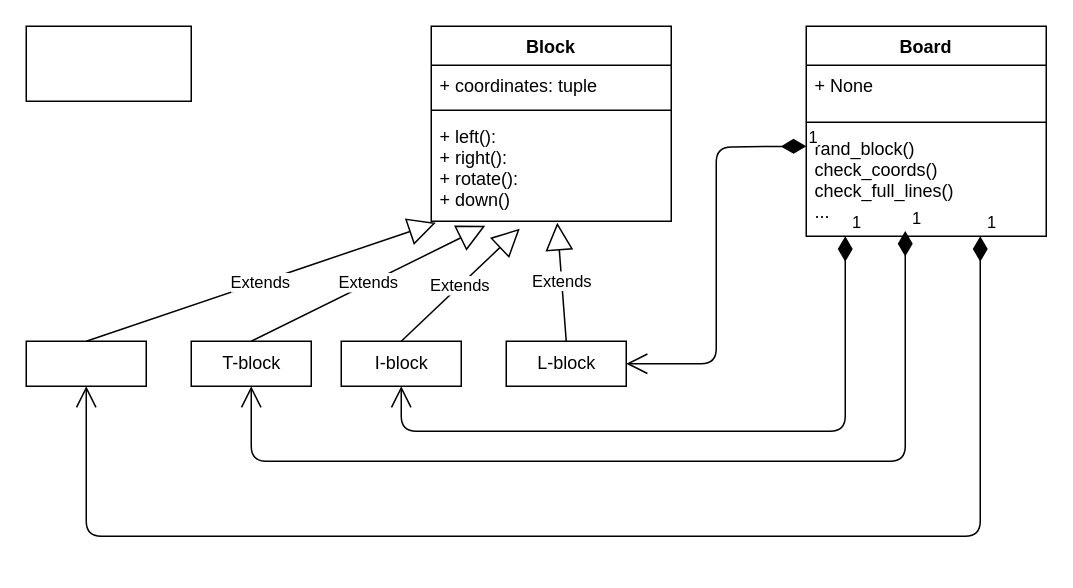
Some shapes in this 1073 by 588 pixel diagram are drawn without their labels. Here are the shapes that lost their labels. From the top down, the centre of each, then its label:
At (108,63): "Tetris-exempel".
At (85,363): "Z-block".
